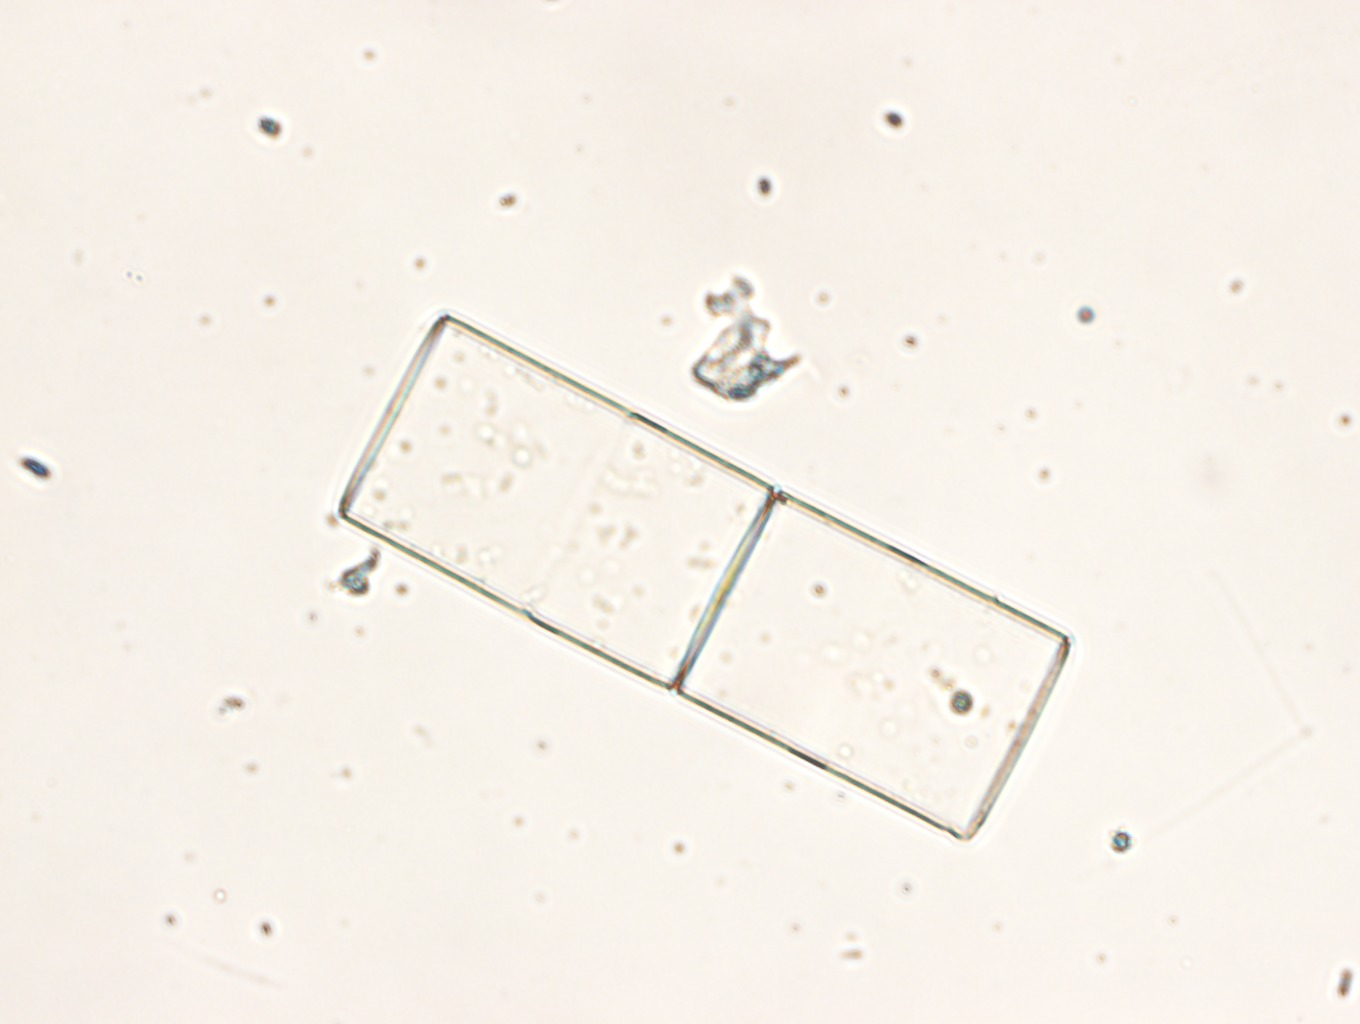guinardia flaccida: (337, 312, 1077, 840)
